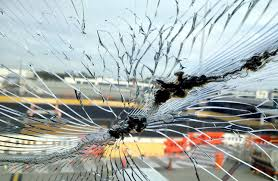crack: (6, 13, 257, 172)
